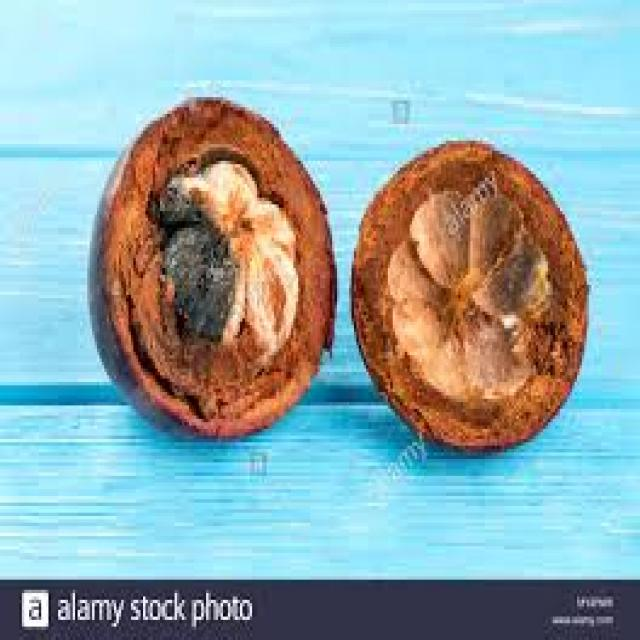organic waste: (85, 94, 334, 439), (352, 138, 586, 452), (155, 221, 245, 345), (232, 225, 300, 355), (198, 151, 254, 228), (230, 184, 294, 248), (148, 171, 208, 224)
